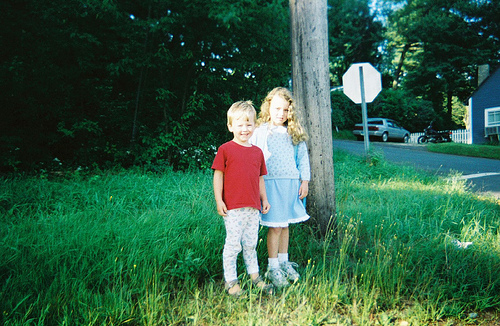without_mask: (227, 113, 258, 144), (267, 93, 295, 126)
